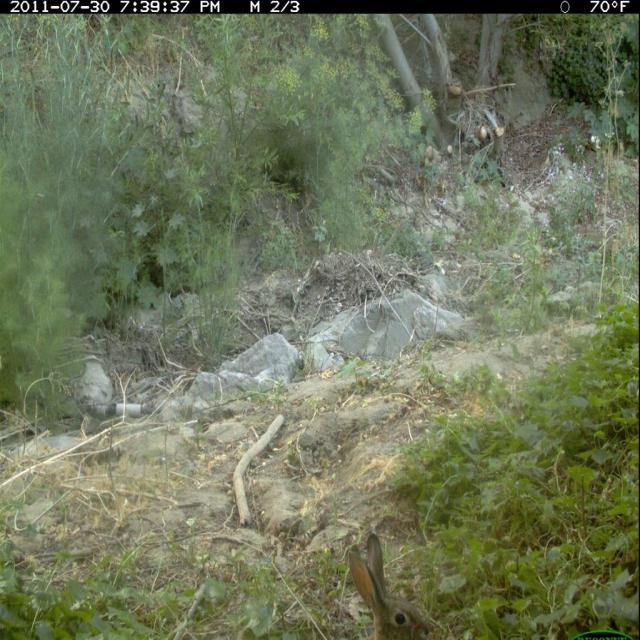rabbit: (346, 528, 433, 640)
